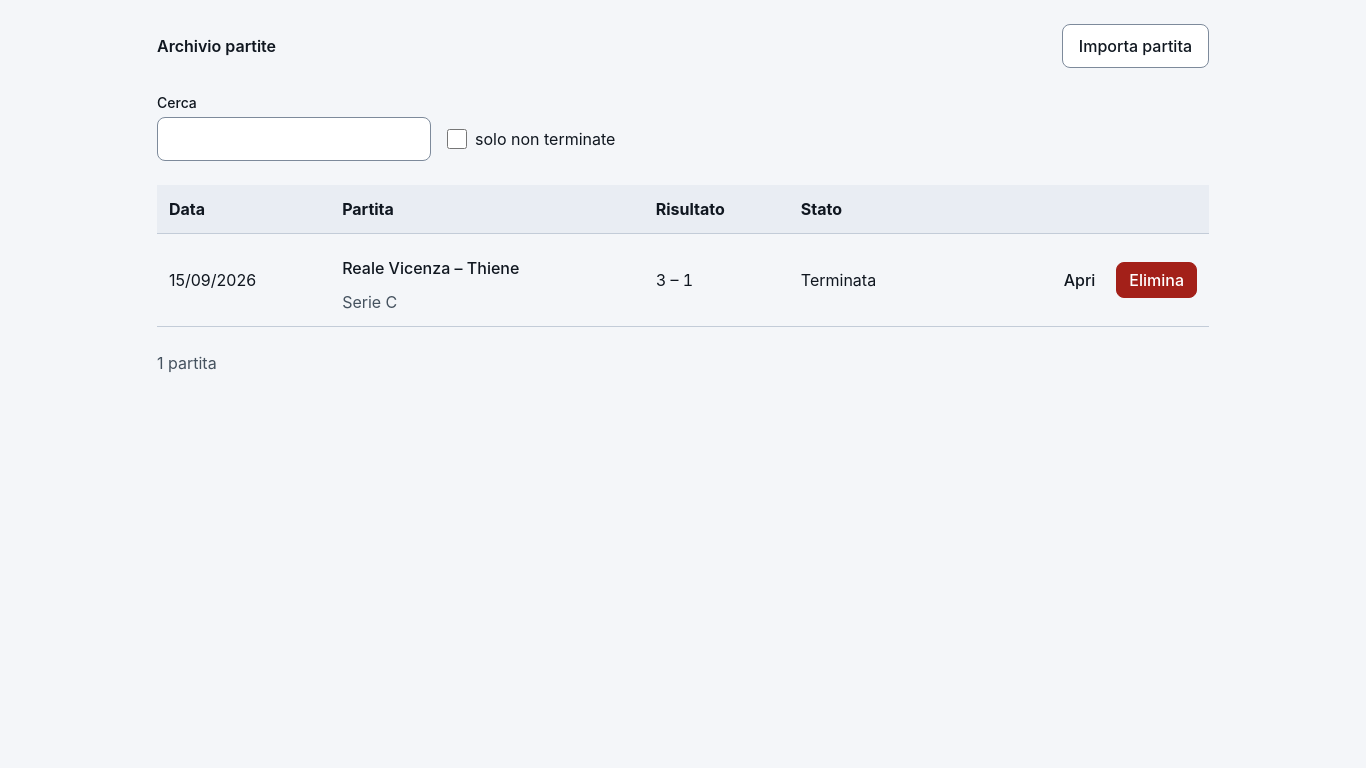
Test: ArchivePage › asks for confirmation before deleting a match
What coordinates should you click on to do the following:
click the button "Elimina"
I would click on:
 (1157, 280)
Its box is [1116, 262, 1197, 298].
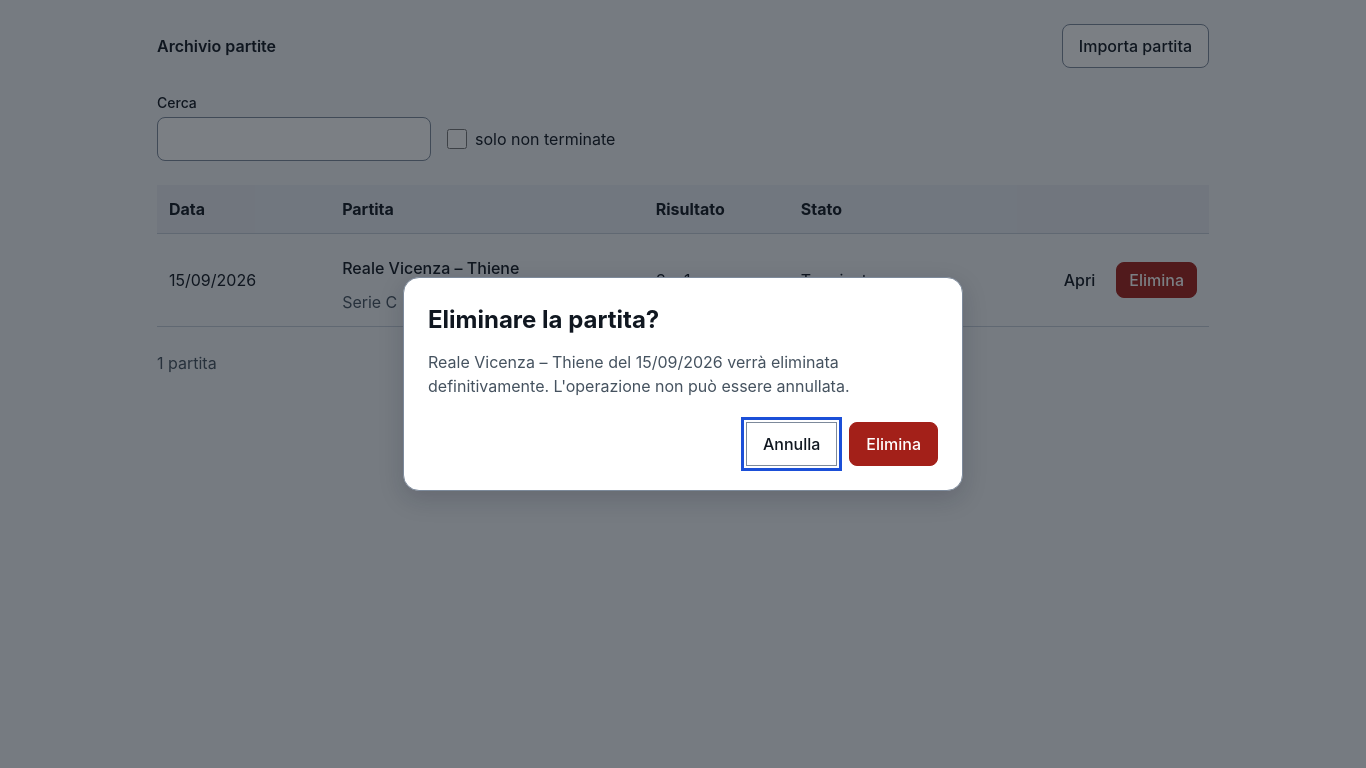
Now the dialog "Eliminare la partita?" is shown, box [403, 277, 963, 491]
